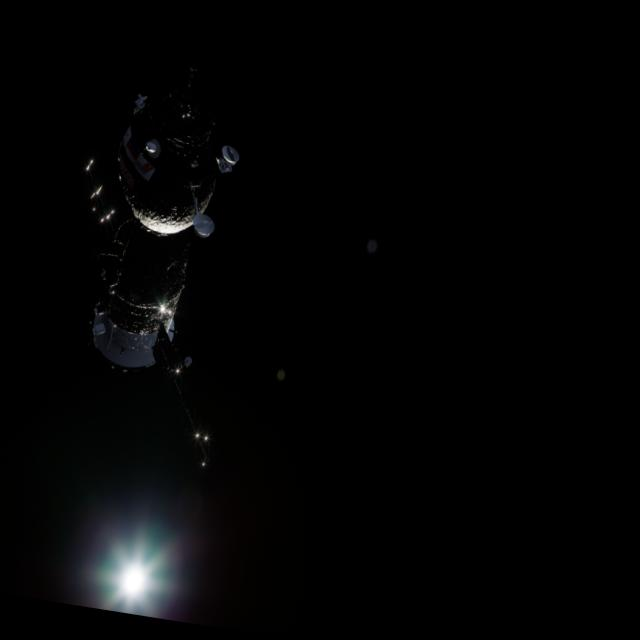Satellites revolving around earth: (54, 48, 256, 388)
